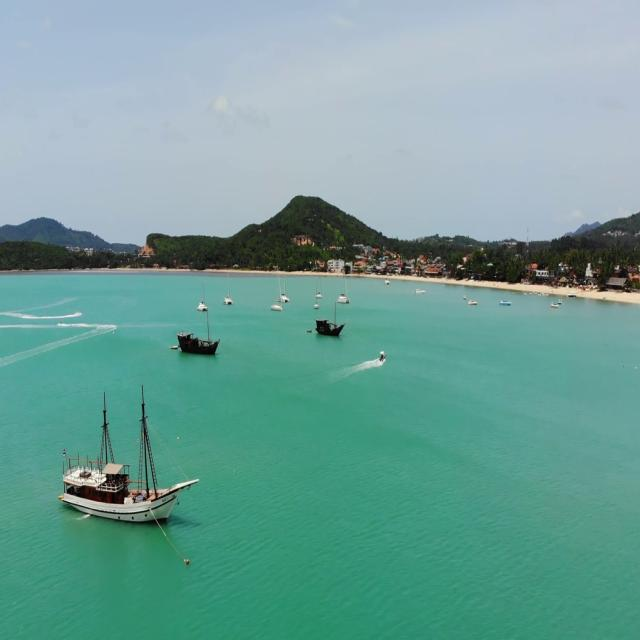fishing boat: (52, 401, 196, 519), (176, 304, 229, 362), (310, 306, 348, 348)
